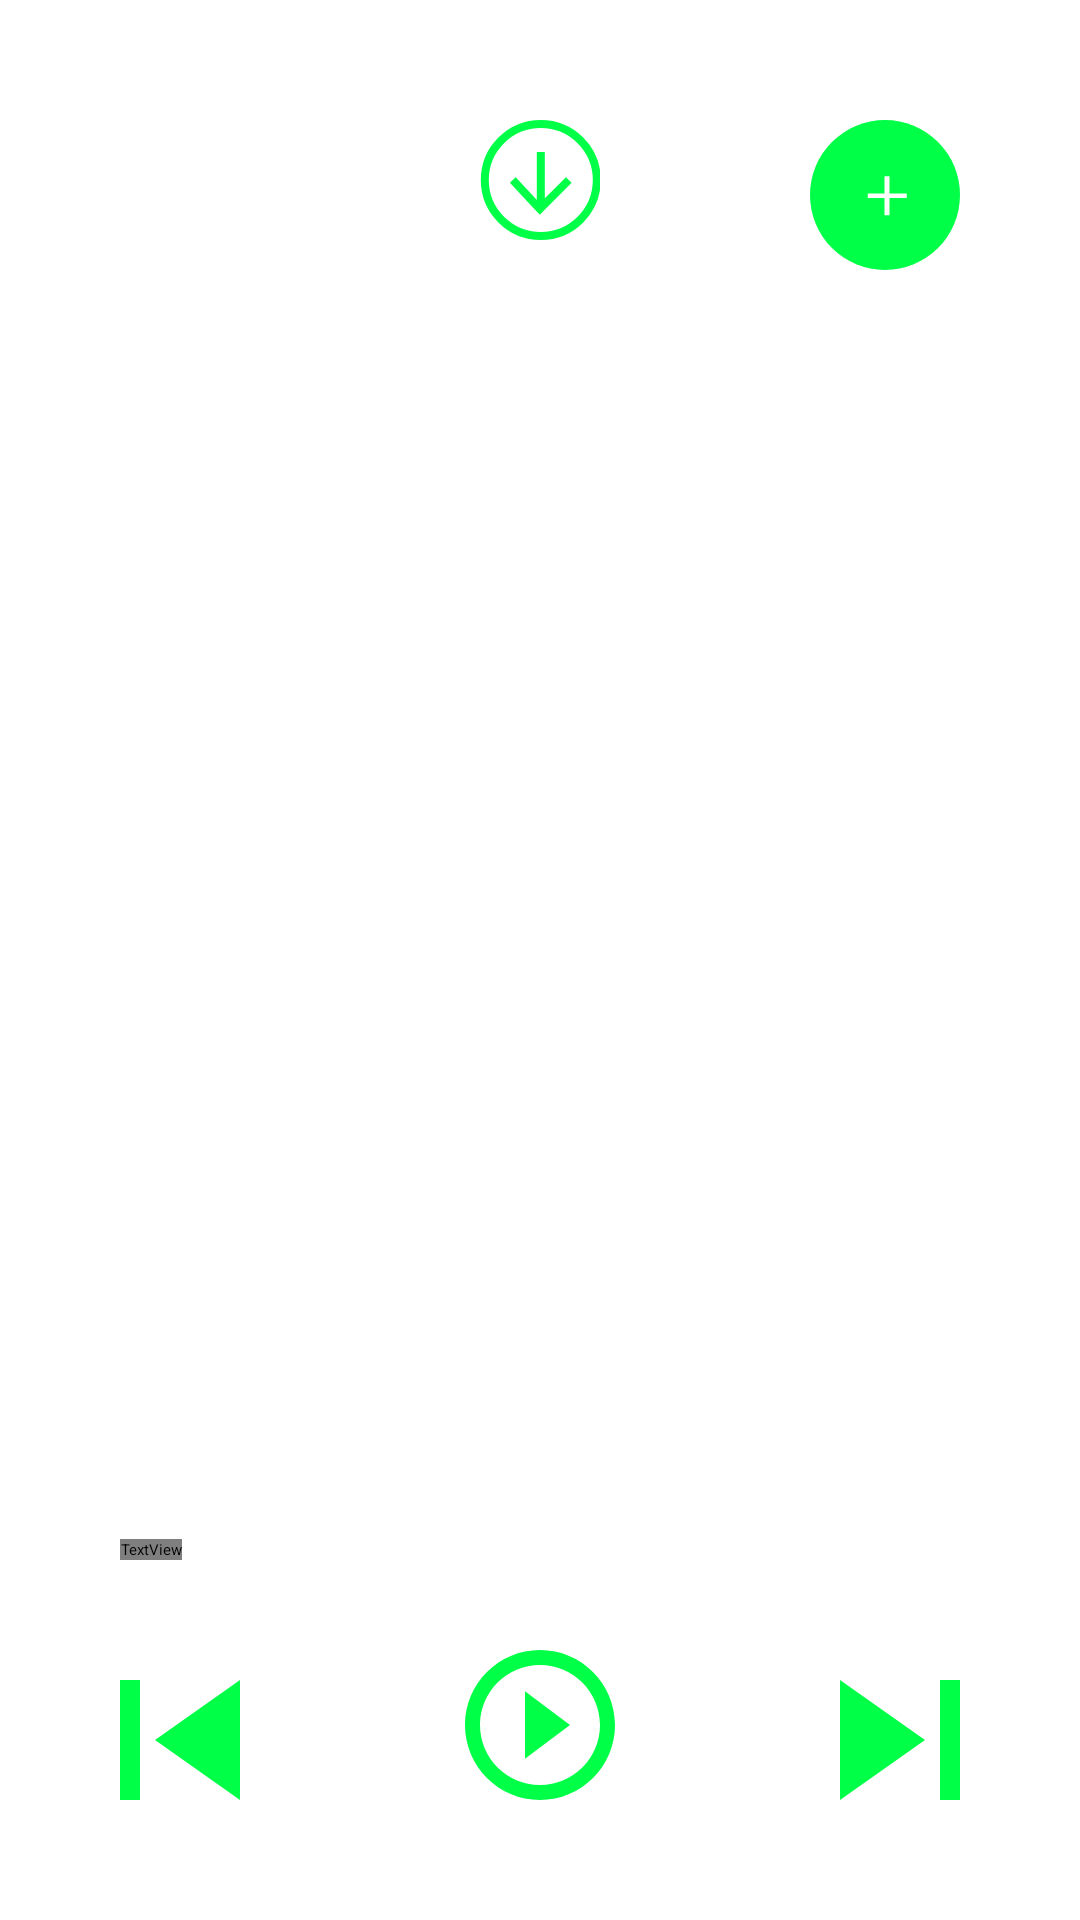

Where to tap for icons on this 1080px x 1920px app screen, as point (x, y):
addplaylist: point (885, 195)
nextbtn: point (900, 1740)
playbtn: point (540, 1725)
prevbtnsvg: point (180, 1740)
